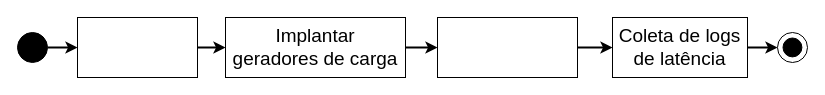
Some shapes in this 825 by 95 pixel diagram are drawn without their labels. Each missing label, with the centre of its shape:
Coleta de logs de vazão: the point at 507,47
Implantar servidores: the point at 137,47
